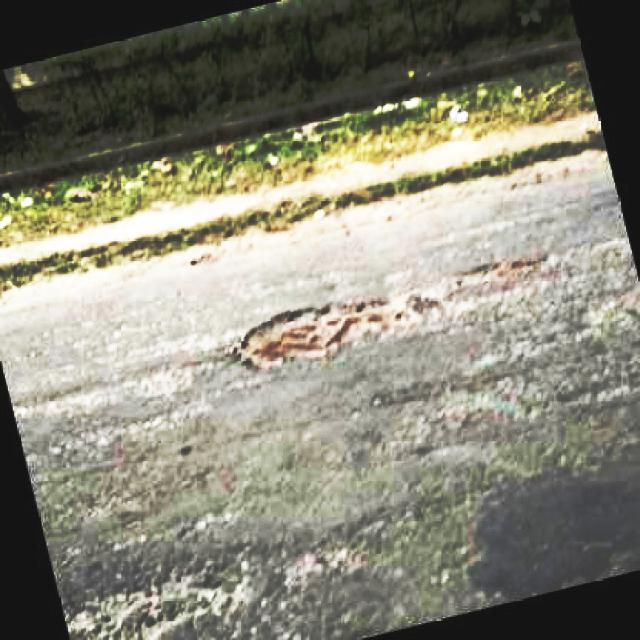pothole: (228, 296, 389, 370)
